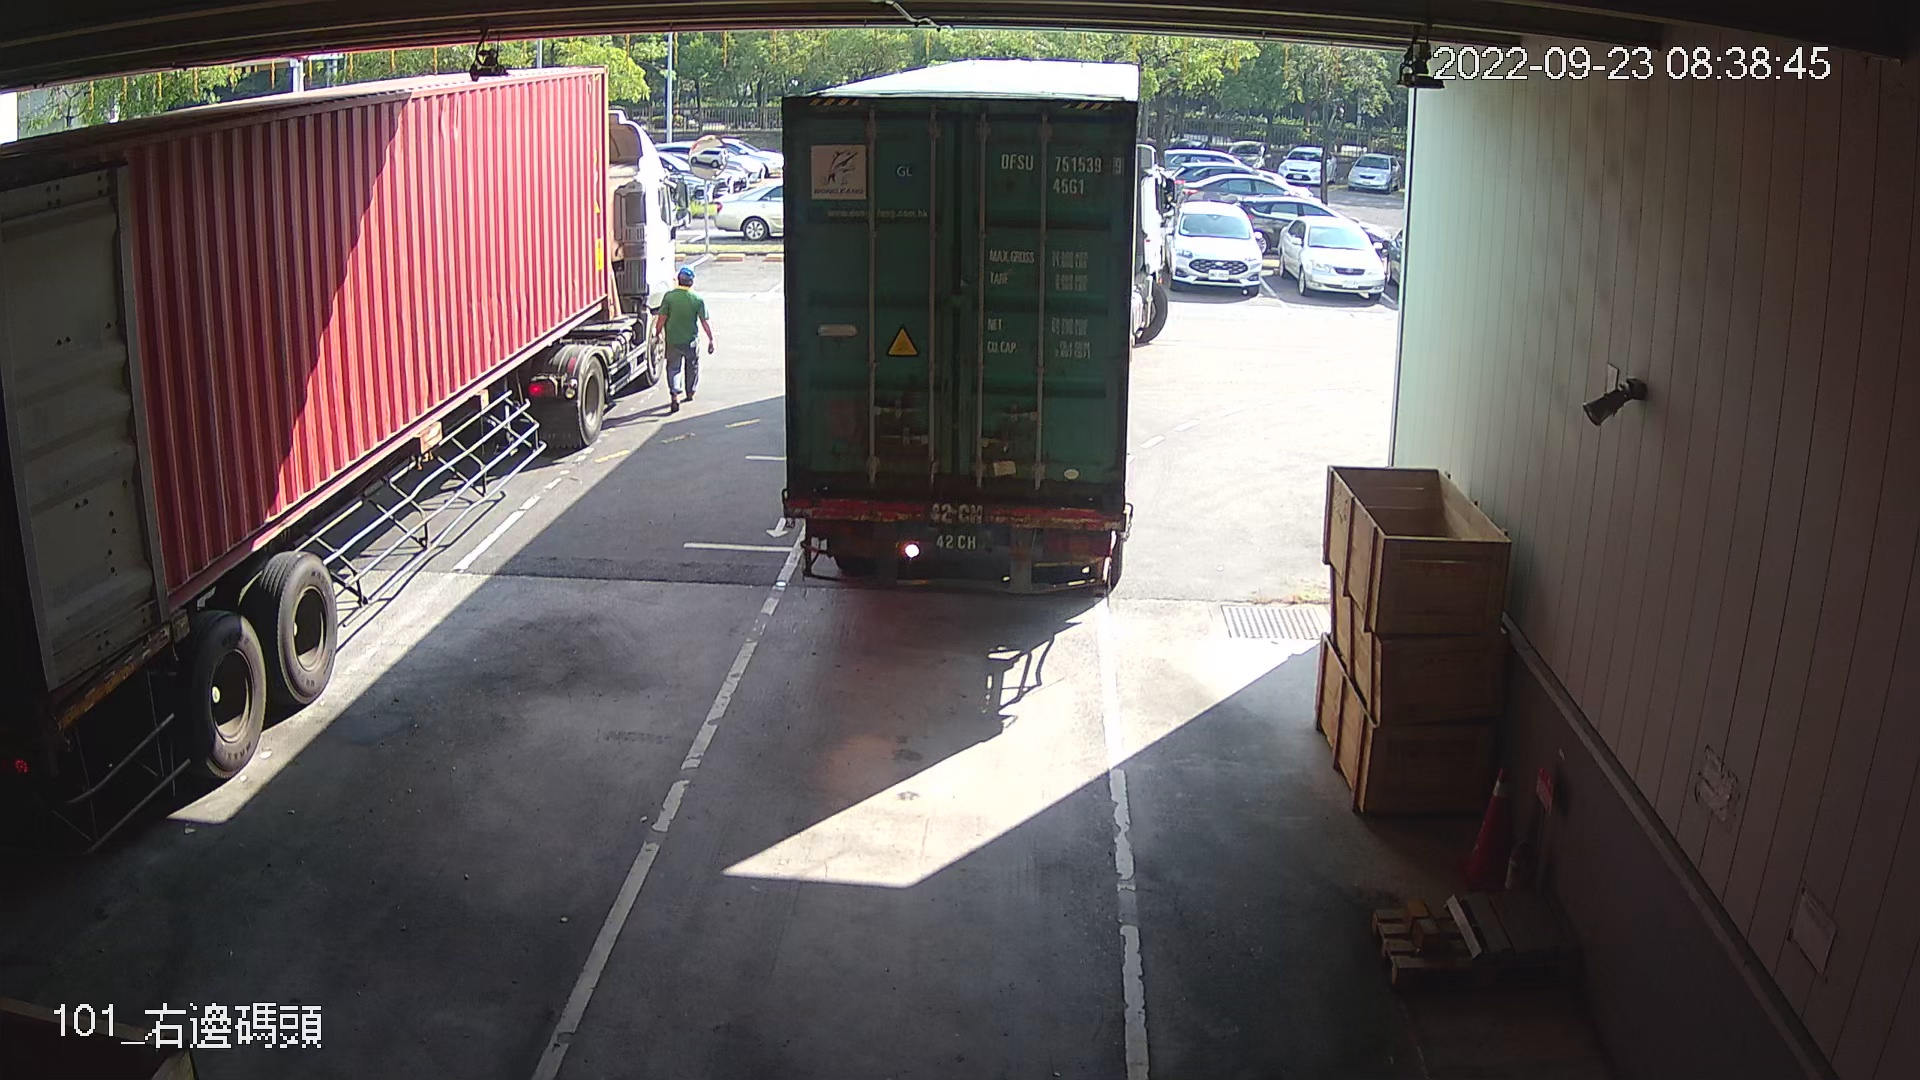container: (992, 144, 1126, 202)
